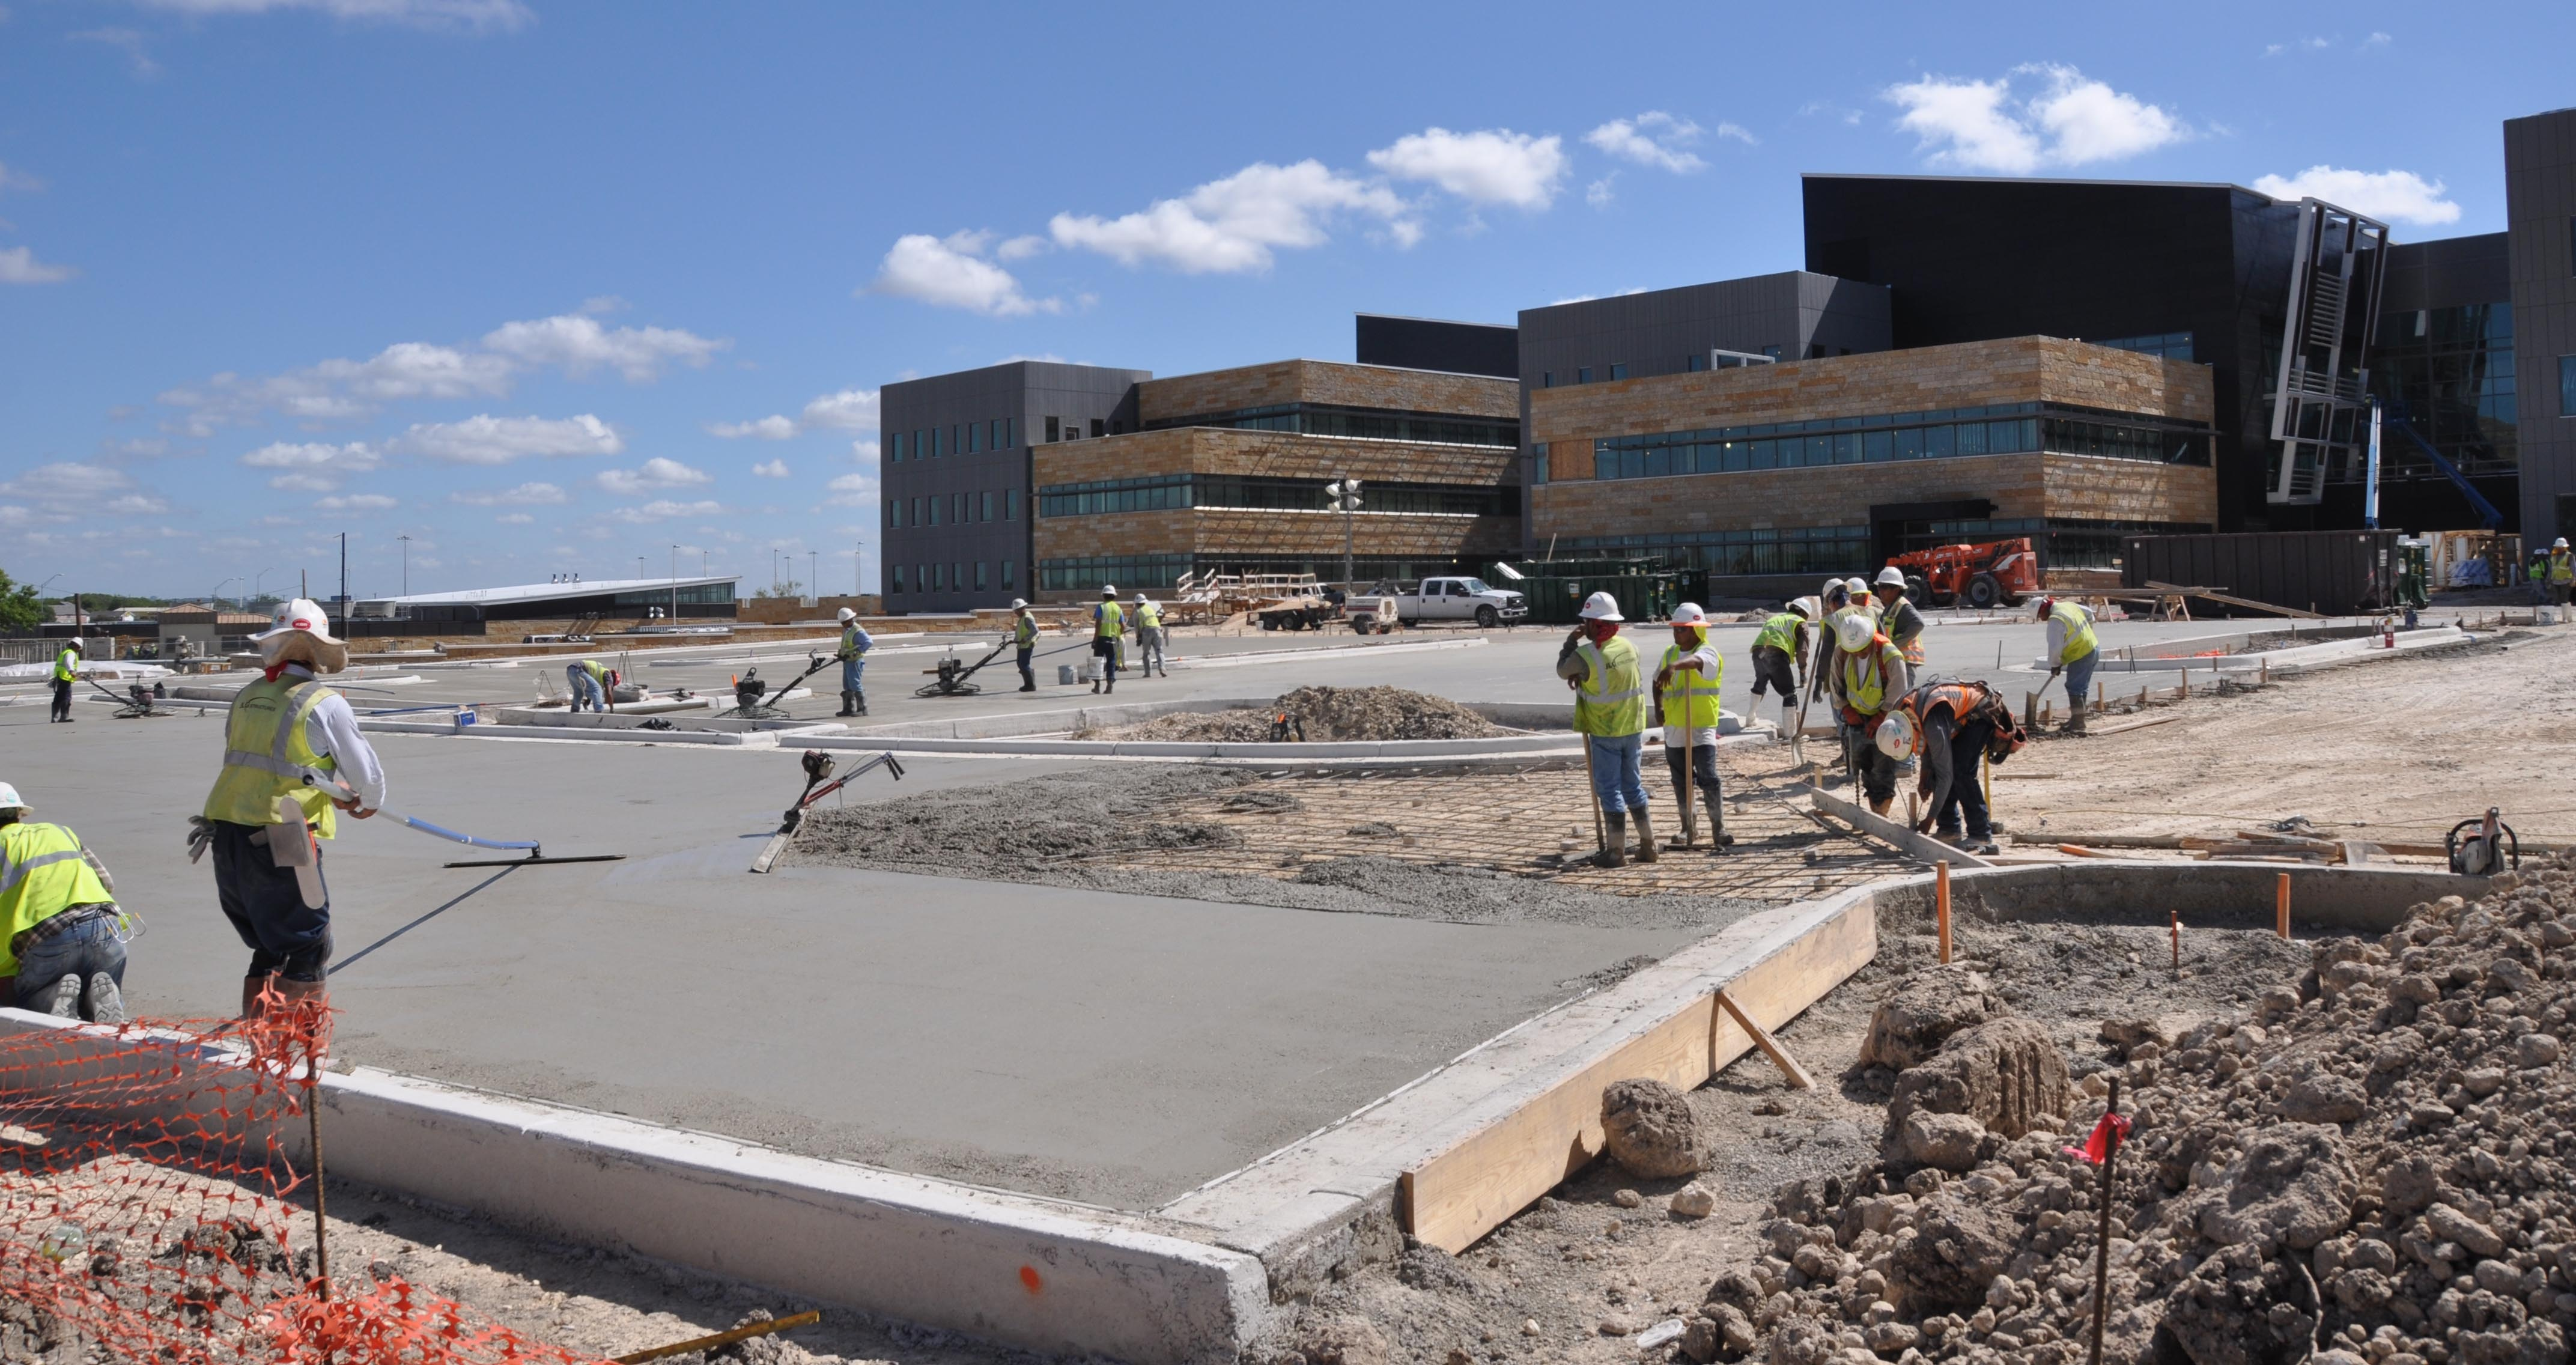red: (608, 666, 622, 687)
white: (266, 596, 331, 670), (1876, 709, 1920, 757), (1581, 591, 1620, 639), (1670, 598, 1707, 646), (1838, 615, 1872, 656), (0, 780, 26, 826), (1876, 566, 1905, 596), (1821, 576, 1849, 605), (1845, 576, 1869, 603), (2029, 593, 2050, 622), (1789, 598, 1811, 619), (837, 605, 854, 629), (1010, 596, 1027, 615), (66, 637, 83, 653), (1102, 583, 1116, 602), (2554, 537, 2567, 554), (1133, 593, 1148, 607), (2533, 549, 2542, 559), (2542, 549, 2549, 559)
